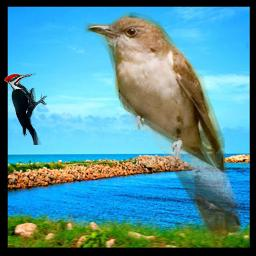Cuckoo: (84, 12, 242, 239)
Woodpecker: (4, 72, 47, 145)
